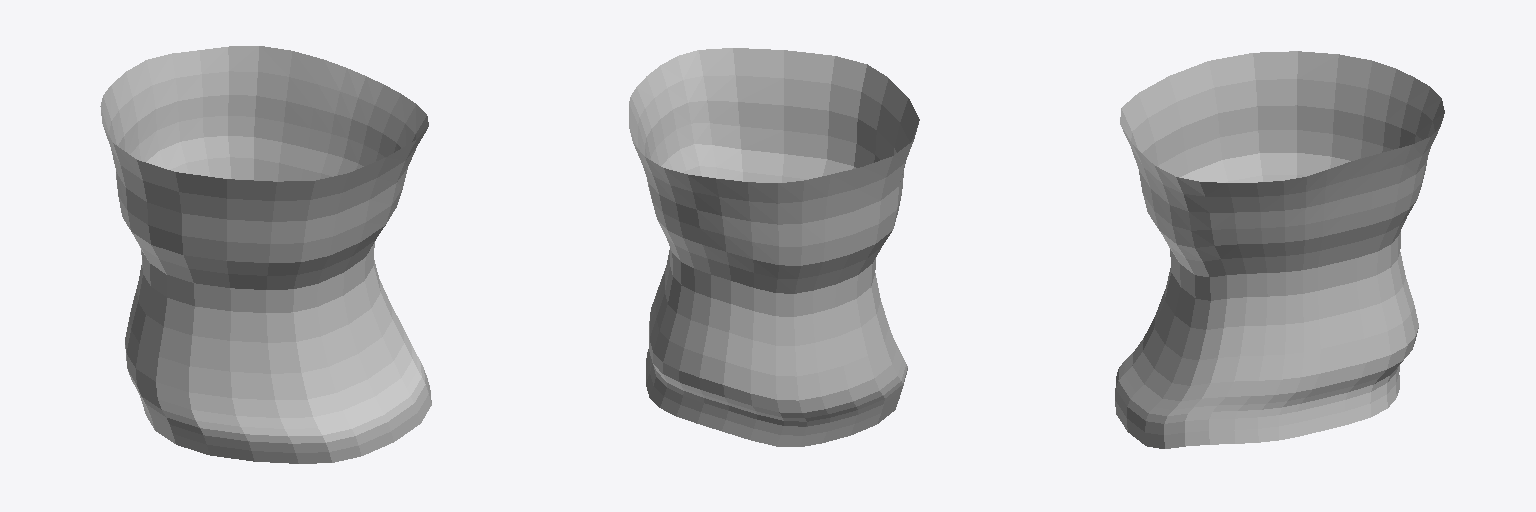
The model's file is Rock_01.obj.
3 renders of one model, left to right at view 1: azimuth 30°, elevation 25°; view 2: azimuth 150°, elevation 25°; view 3: azimuth 270°, elevation 25°, orthographic.
Visible parts, largest first — view 1: Cube; view 2: Cube; view 3: Cube.
Boxes of the visible parts, box(x1,y1,x2,y2) form: Cube: box(100, 46, 431, 463); Cube: box(629, 48, 919, 446); Cube: box(1115, 51, 1444, 448).
Size of the model in its own units: 80.8 by 84.12 by 86.05.